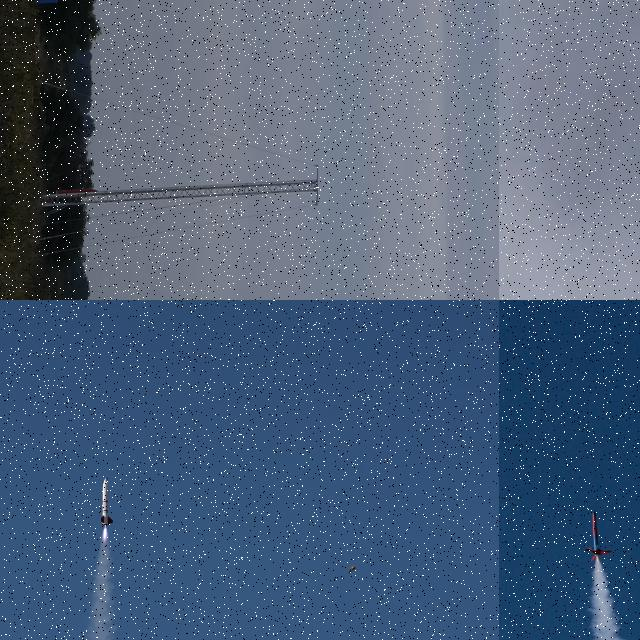Rocket: (585, 509, 613, 562), (100, 478, 113, 526), (55, 189, 98, 194)
